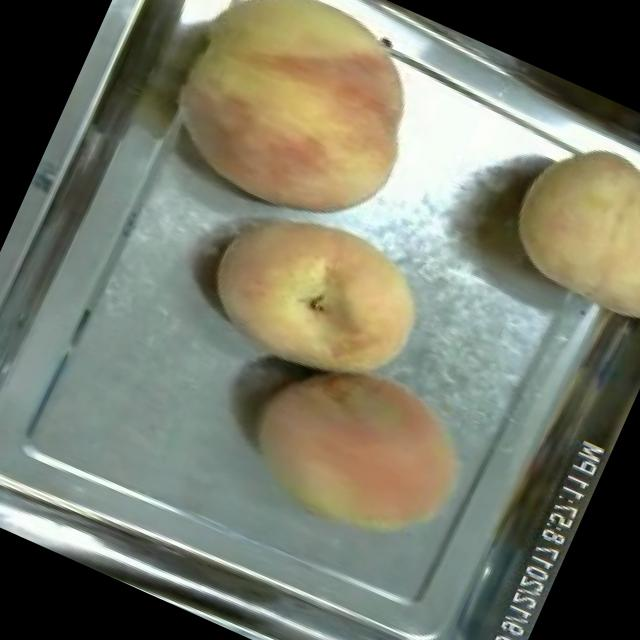Fruit: (137, 0, 462, 259), (223, 323, 500, 574), (183, 174, 451, 418), (483, 104, 640, 348)
